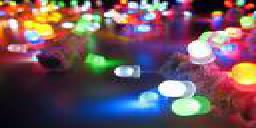LED: (171, 95, 213, 118), (154, 76, 197, 95), (86, 51, 111, 78), (112, 63, 144, 78)
